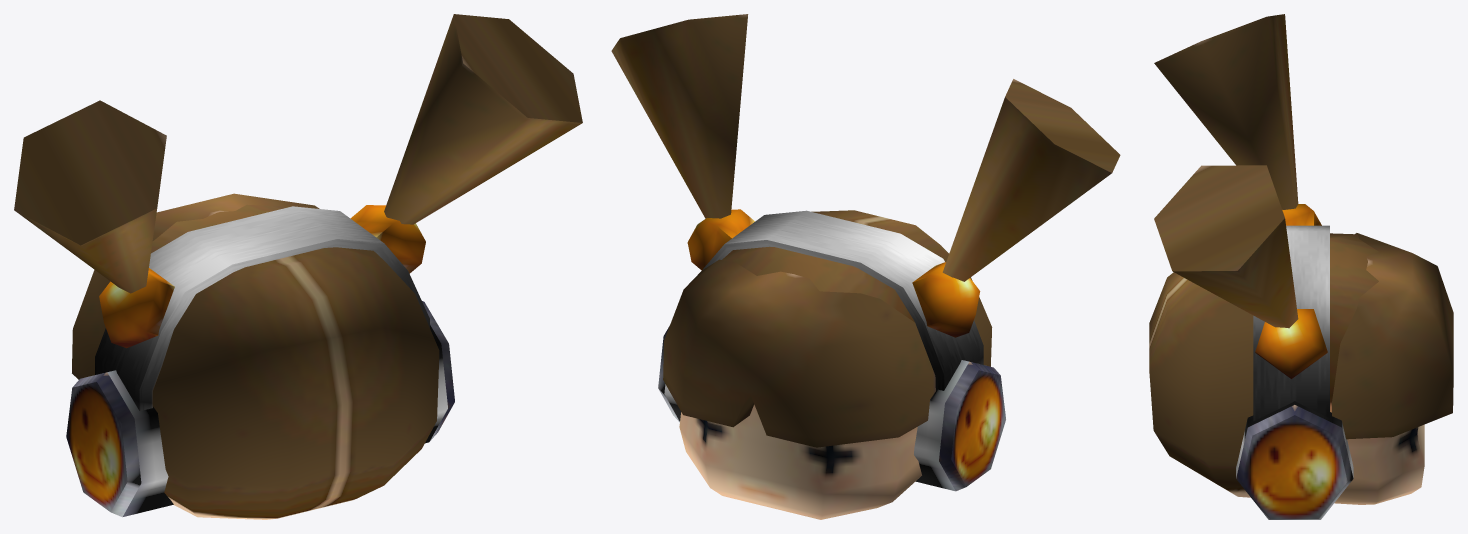
The model's file is del.ico.obj.
The picture shows the model from 3 angles, left to right: view 1: azimuth 30°, elevation 25°; view 2: azimuth 150°, elevation 25°; view 3: azimuth 270°, elevation 25°; orthographic projection. The views are drawn at different scales.
Size of the model in its own units: 3.21 by 2.47 by 1.76.
1 material, 1 textured.
